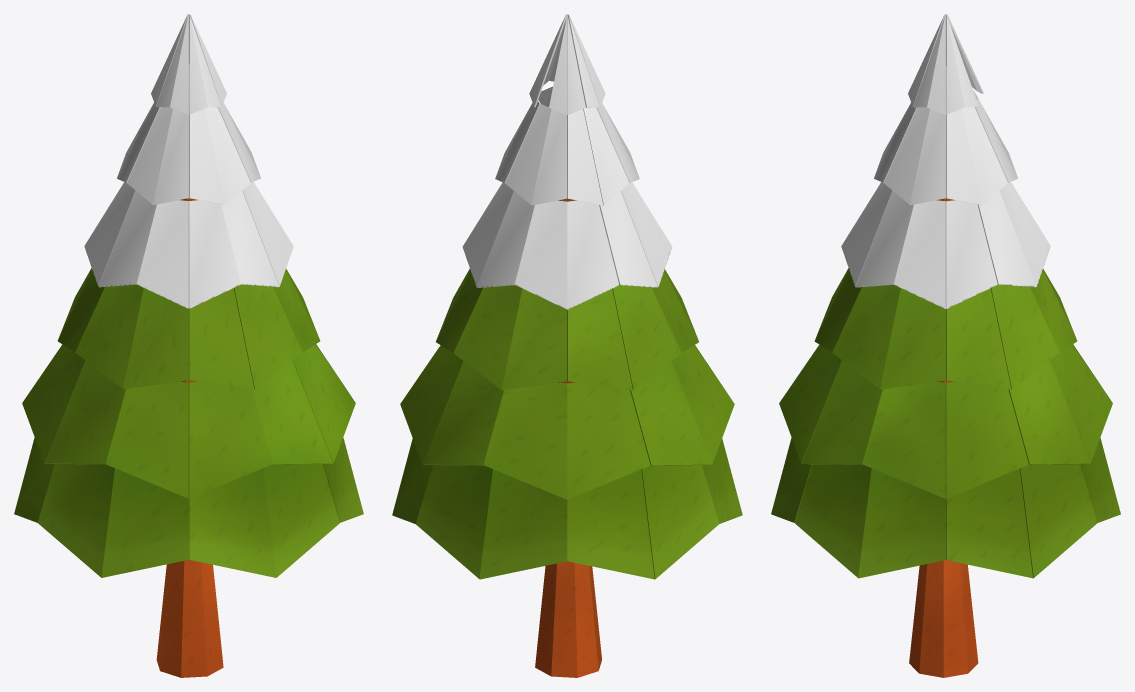
File: PA_Treeset1_Tree4_CROP.fbx
3 renders of one model, left to right at view 1: azimuth 30°, elevation 25°; view 2: azimuth 150°, elevation 25°; view 3: azimuth 270°, elevation 25°, orthographic.
Visible parts, largest first — view 1: PA_Treeset1_Tree4.014, PA_Treeset1_Tree4.001, PA_Treeset1_Tree4.008, PA_Treeset1_Tree4.004, PA_Treeset1_Tree4.012, PA_Treeset1_Tree4.011, PA_Treeset1_Tree4.003, PA_Treeset1_Tree4.015; view 2: PA_Treeset1_Tree4.005, PA_Treeset1_Tree4.016, PA_Treeset1_Tree4.014, PA_Treeset1_Tree4.013, PA_Treeset1_Tree4.012, PA_Treeset1_Tree4.006, PA_Treeset1_Tree4.011, PA_Treeset1_Tree4.004, PA_Treeset1_Tree4.009, PA_Treeset1_Tree4.015; view 3: PA_Treeset1_Tree4.016, PA_Treeset1_Tree4.015, PA_Treeset1_Tree4.009, PA_Treeset1_Tree4.007, PA_Treeset1_Tree4.002, PA_Treeset1_Tree4.003, PA_Treeset1_Tree4.008, PA_Treeset1_Tree4.011, PA_Treeset1_Tree4.006, PA_Treeset1_Tree4.001.
Boxes of the visible parts, x1=… form: PA_Treeset1_Tree4.014: x1=14, y1=344, x2=188, y2=577; PA_Treeset1_Tree4.001: x1=189, y1=288, x2=339, y2=577; PA_Treeset1_Tree4.008: x1=189, y1=15, x2=319, y2=389; PA_Treeset1_Tree4.004: x1=98, y1=15, x2=188, y2=389; PA_Treeset1_Tree4.012: x1=58, y1=15, x2=187, y2=389; PA_Treeset1_Tree4.011: x1=156, y1=560, x2=223, y2=677; PA_Treeset1_Tree4.003: x1=292, y1=344, x2=363, y2=522; PA_Treeset1_Tree4.015: x1=190, y1=14, x2=319, y2=339; PA_Treeset1_Tree4.005: x1=480, y1=289, x2=654, y2=579; PA_Treeset1_Tree4.016: x1=392, y1=270, x2=567, y2=579; PA_Treeset1_Tree4.014: x1=630, y1=345, x2=742, y2=579; PA_Treeset1_Tree4.013: x1=515, y1=15, x2=619, y2=309; PA_Treeset1_Tree4.012: x1=567, y1=15, x2=698, y2=389; PA_Treeset1_Tree4.006: x1=462, y1=16, x2=567, y2=287; PA_Treeset1_Tree4.011: x1=535, y1=561, x2=601, y2=677; PA_Treeset1_Tree4.004: x1=568, y1=14, x2=698, y2=340; PA_Treeset1_Tree4.009: x1=436, y1=14, x2=567, y2=340; PA_Treeset1_Tree4.015: x1=538, y1=14, x2=566, y2=107; PA_Treeset1_Tree4.016: x1=991, y1=268, x2=1120, y2=578; PA_Treeset1_Tree4.015: x1=855, y1=15, x2=945, y2=389; PA_Treeset1_Tree4.009: x1=946, y1=15, x2=1011, y2=389; PA_Treeset1_Tree4.007: x1=946, y1=381, x2=1032, y2=578; PA_Treeset1_Tree4.002: x1=859, y1=381, x2=945, y2=578; PA_Treeset1_Tree4.003: x1=795, y1=361, x2=883, y2=578; PA_Treeset1_Tree4.008: x1=814, y1=14, x2=945, y2=389; PA_Treeset1_Tree4.011: x1=909, y1=560, x2=978, y2=677; PA_Treeset1_Tree4.006: x1=946, y1=14, x2=1050, y2=287; PA_Treeset1_Tree4.001: x1=771, y1=268, x2=848, y2=522.
Bounding box in the file's own units: 166 × 340 × 166.
